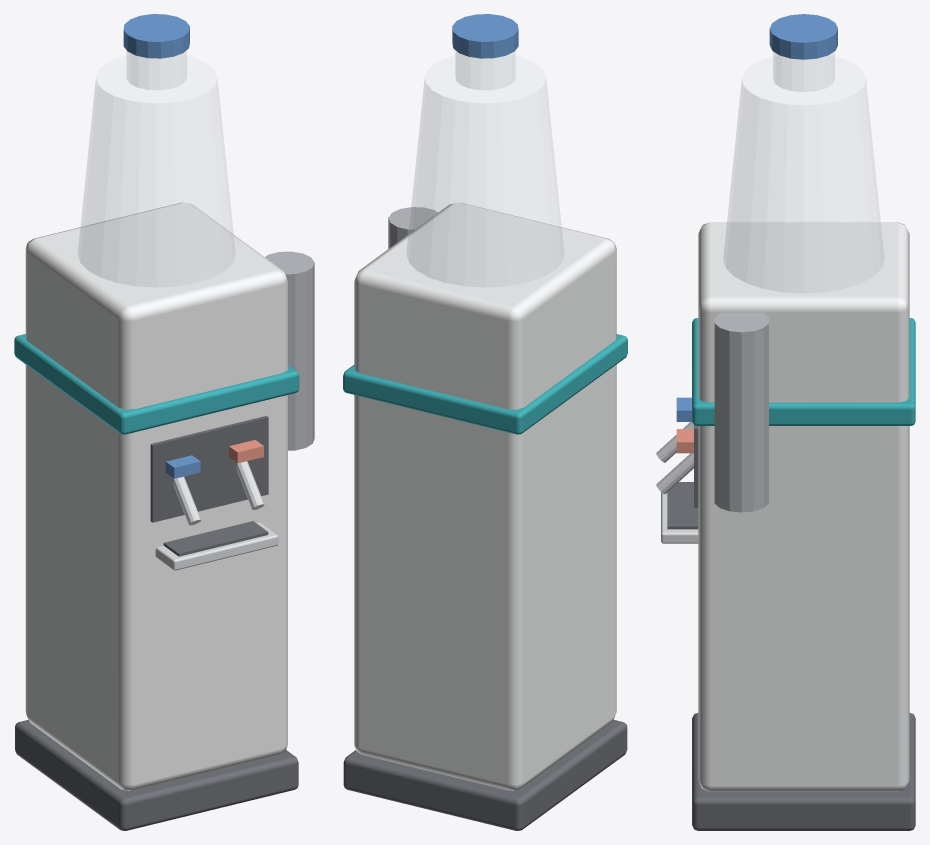
File: water_cooler.glb
3 renders of one model, left to right at view 1: azimuth 30°, elevation 25°; view 2: azimuth 150°, elevation 25°; view 3: azimuth 270°, elevation 25°, orthographic. The views are drawn at different scales.
Parts seen in each view (by area): view 1: water-cooler; view 2: water-cooler; view 3: water-cooler.
Boxes of the visible parts, x1=… form: water-cooler: x1=14, y1=14, x2=314, y2=830; water-cooler: x1=343, y1=14, x2=627, y2=830; water-cooler: x1=656, y1=14, x2=915, y2=830.
Size of the model in its own units: 0.405 by 1.35 by 0.4178.
